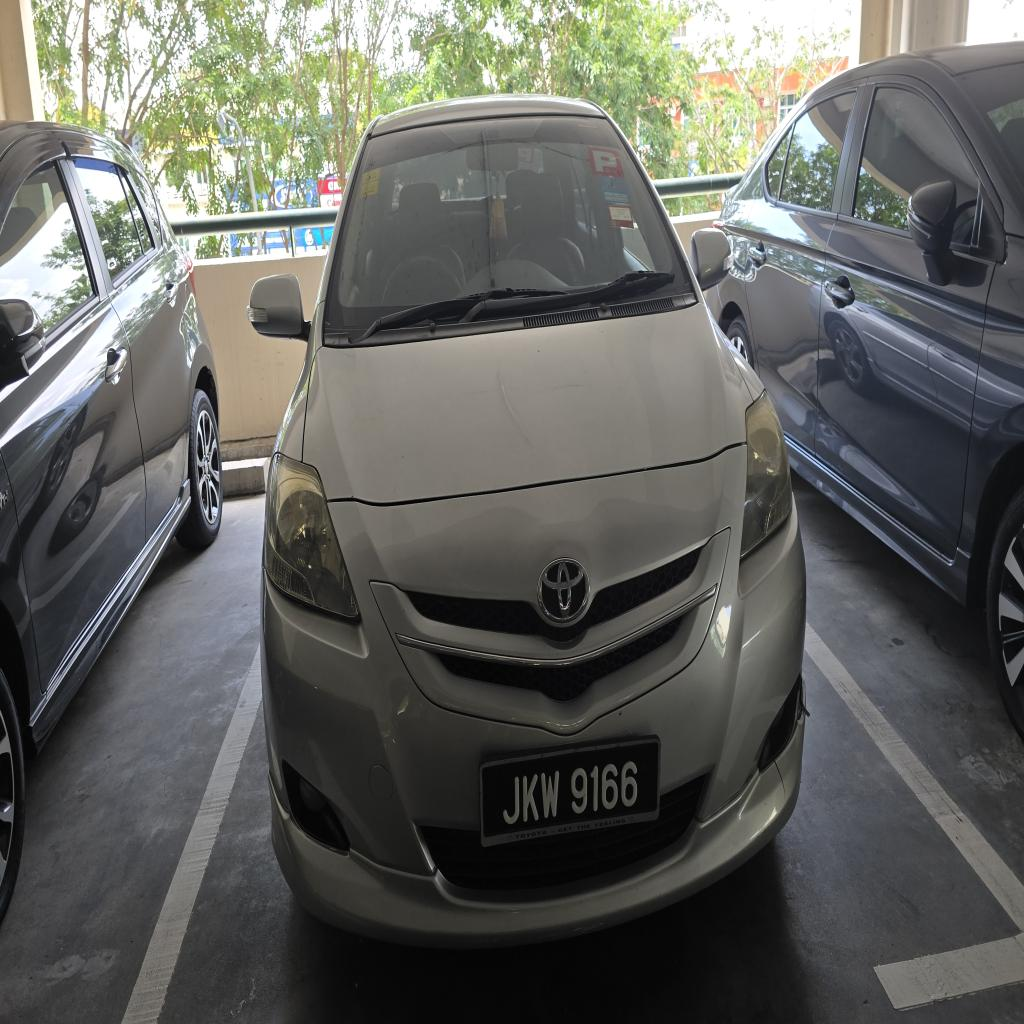car: (249, 97, 805, 944)
car plate: (480, 738, 659, 846)
